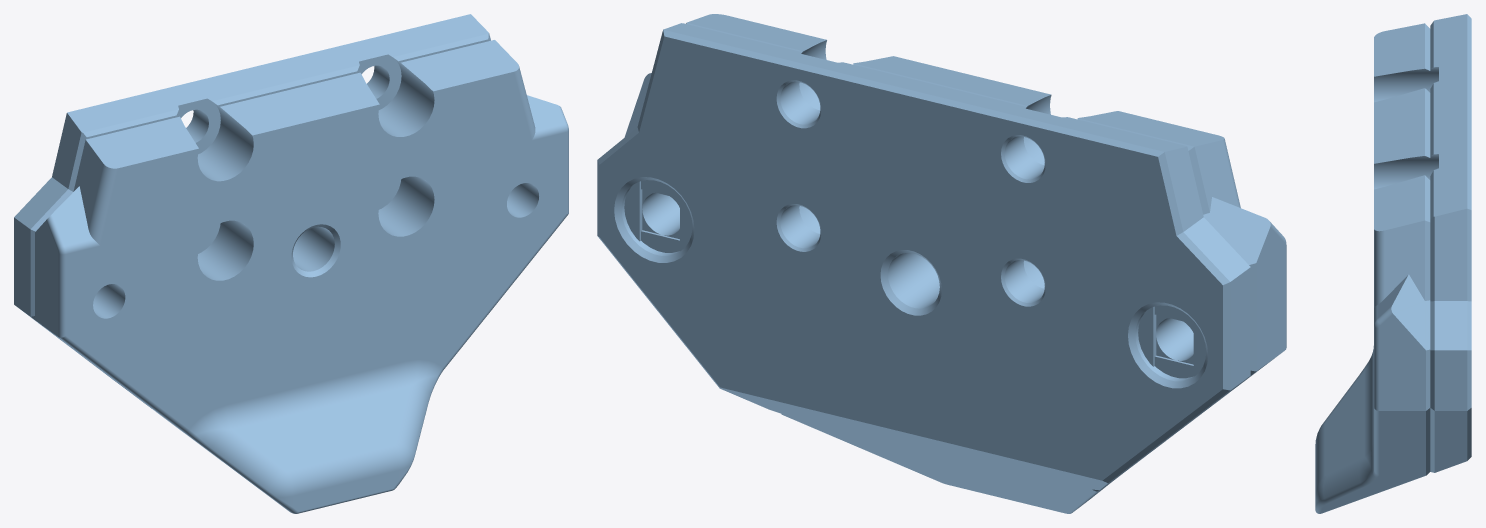
File: A4T - LGX-L_VZHex Adapter [xol-carriage].gltf
The picture shows the model from 3 angles, left to right: view 1: azimuth 30°, elevation 25°; view 2: azimuth 150°, elevation 25°; view 3: azimuth 270°, elevation 25°; orthographic projection. The views are drawn at different scales.
Parts seen in each view (by area): view 1: A4T - LGX-L_VZHex Adapter [xol-carriage]; view 2: A4T - LGX-L_VZHex Adapter [xol-carriage]; view 3: A4T - LGX-L_VZHex Adapter [xol-carriage].
Part boxes in pixels (x1,y1,x2,y2): A4T - LGX-L_VZHex Adapter [xol-carriage]: [14, 14, 568, 513]; A4T - LGX-L_VZHex Adapter [xol-carriage]: [597, 14, 1286, 513]; A4T - LGX-L_VZHex Adapter [xol-carriage]: [1315, 14, 1471, 513].
Bounding box in the file's own units: 0.0536 × 0.0385 × 0.0144.
